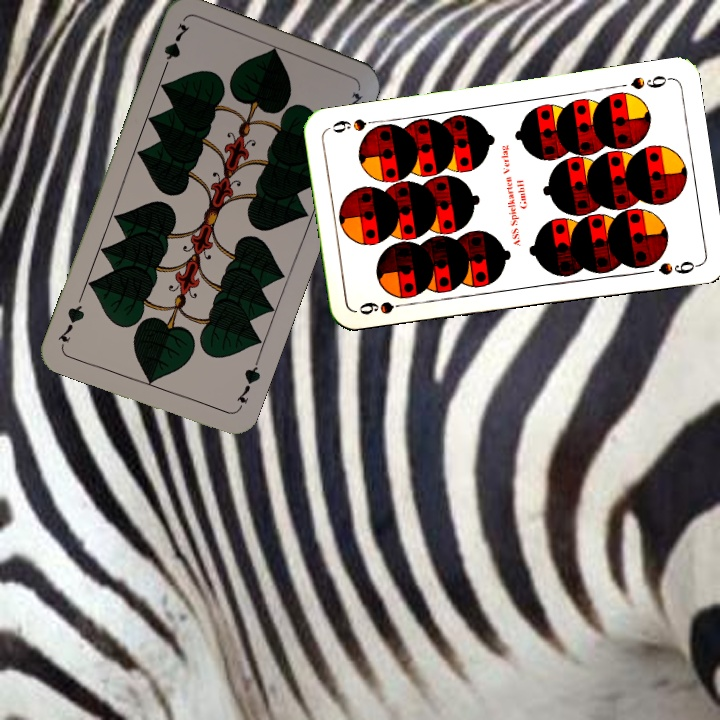G7: (158, 19, 192, 76), (232, 356, 263, 413)
S9: (355, 297, 413, 317), (626, 71, 674, 92)
